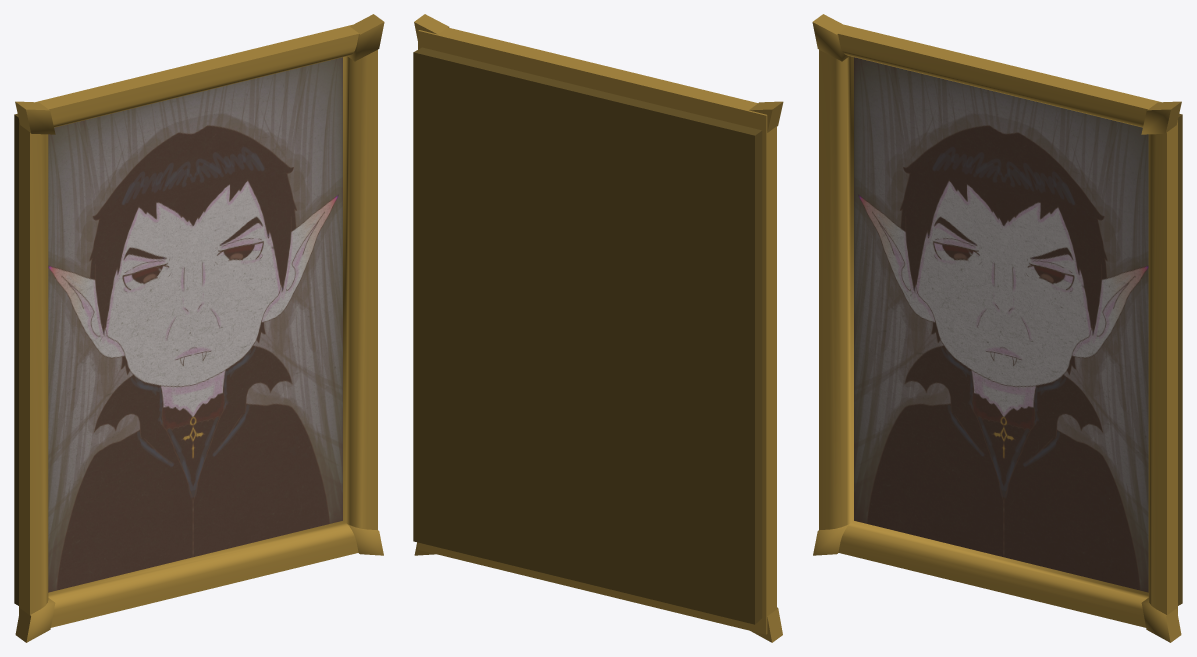
Rendered from Painting grumpy guy.fbx.
The picture shows the model from 3 angles, left to right: view 1: azimuth 30°, elevation 25°; view 2: azimuth 150°, elevation 25°; view 3: azimuth 330°, elevation 25°; orthographic projection.
Visible parts, largest first — view 1: Plane; view 2: Plane; view 3: Plane.
Boxes of the visible parts, x1,y1,x2,y2 form: Plane: (14,14,384,642); Plane: (413,14,783,642); Plane: (812,14,1182,642).
Bounding box in the file's own units: 0.823 × 1.17 × 0.0794.
